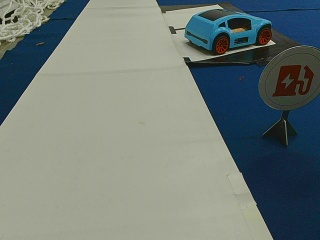battery: (259, 45, 319, 112)
car: (184, 9, 272, 54)
